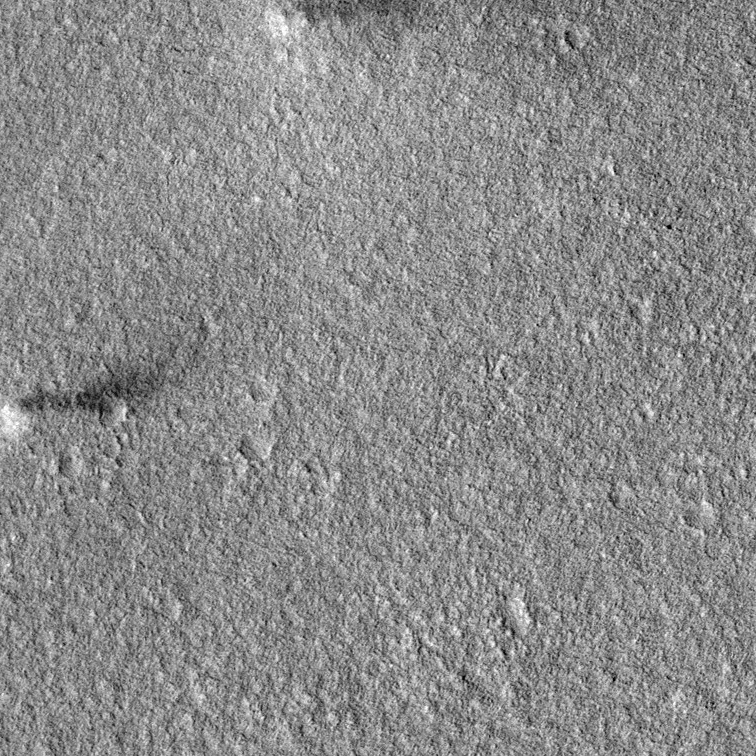dust_devil: (1, 349, 185, 444), (260, 1, 440, 43)
